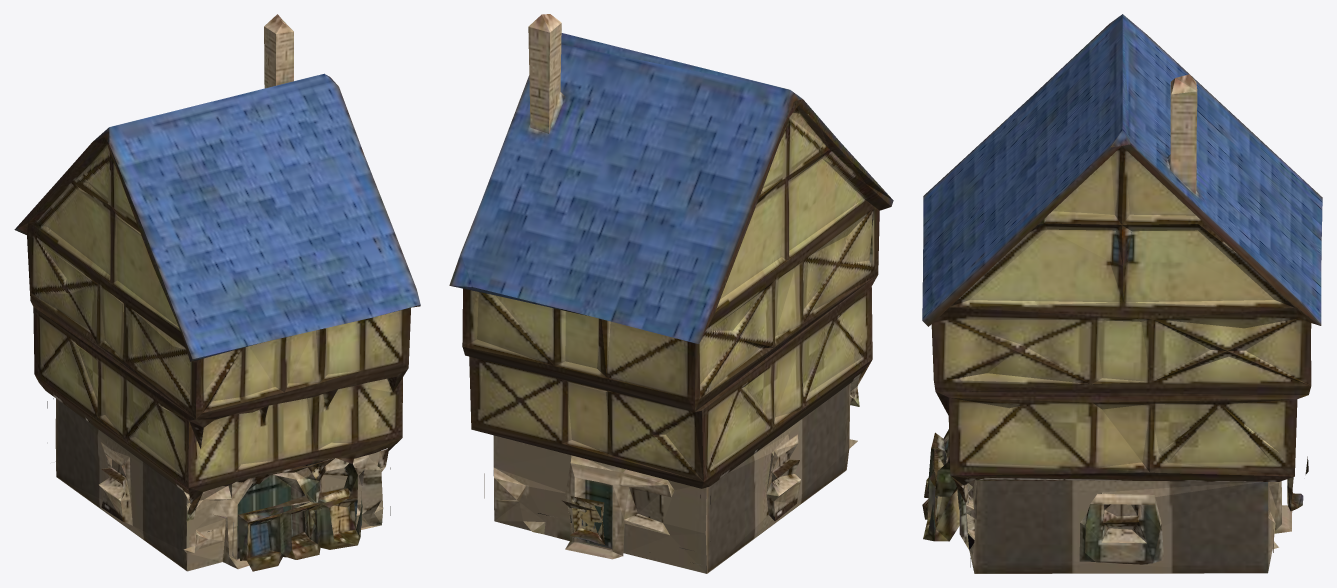
The model's file is townhouse_c_lod2.glb.
3 renders of one model, left to right at view 1: azimuth 30°, elevation 25°; view 2: azimuth 150°, elevation 25°; view 3: azimuth 270°, elevation 25°, orthographic. The views are drawn at different scales.
Parts seen in each view (by area): view 1: lod; view 2: lod; view 3: lod.
Part boxes in pixels (x1=…): lod: x1=14, y1=14, x2=420, y2=571; lod: x1=449, y1=14, x2=893, y2=573; lod: x1=922, y1=14, x2=1322, y2=573.
Size of the model in its own units: 7.72 by 14.18 by 10.39.
Materials: 1 (1 with a texture image).
